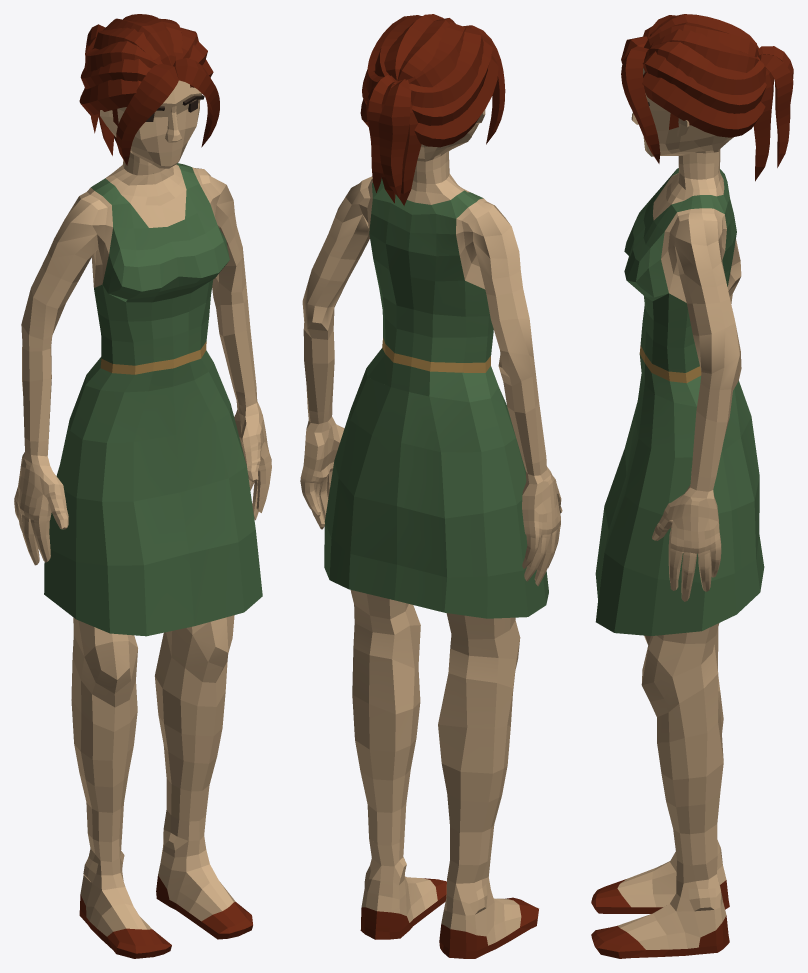
Rendered from woman-formal.glb.
The picture shows the model from 3 angles, left to right: view 1: azimuth 30°, elevation 25°; view 2: azimuth 150°, elevation 25°; view 3: azimuth 270°, elevation 25°; orthographic projection. The views are drawn at different scales.
Parts seen in each view (by area): view 1: Formal_Legs, Formal_Body, Formad_Head, Formal_Feet; view 2: Formal_Legs, Formal_Body, Formad_Head, Formal_Feet; view 3: Formal_Legs, Formal_Body, Formad_Head, Formal_Feet.
Boxes of the visible parts, bbox=[...] form: Formal_Legs: bbox=[44, 363, 262, 842]; Formal_Body: bbox=[14, 163, 271, 565]; Formad_Head: bbox=[79, 14, 219, 175]; Formal_Feet: bbox=[79, 810, 252, 958]; Formal_Legs: bbox=[324, 368, 548, 865]; Formal_Body: bbox=[300, 174, 562, 586]; Formad_Head: bbox=[360, 14, 505, 205]; Formal_Feet: bbox=[360, 837, 538, 958]; Formal_Legs: bbox=[595, 374, 764, 865]; Formal_Body: bbox=[624, 167, 741, 601]; Formad_Head: bbox=[621, 14, 793, 181]; Formal_Feet: bbox=[591, 840, 729, 958].
Bounding box in the file's own units: 0.5208 × 1.84 × 0.372.
